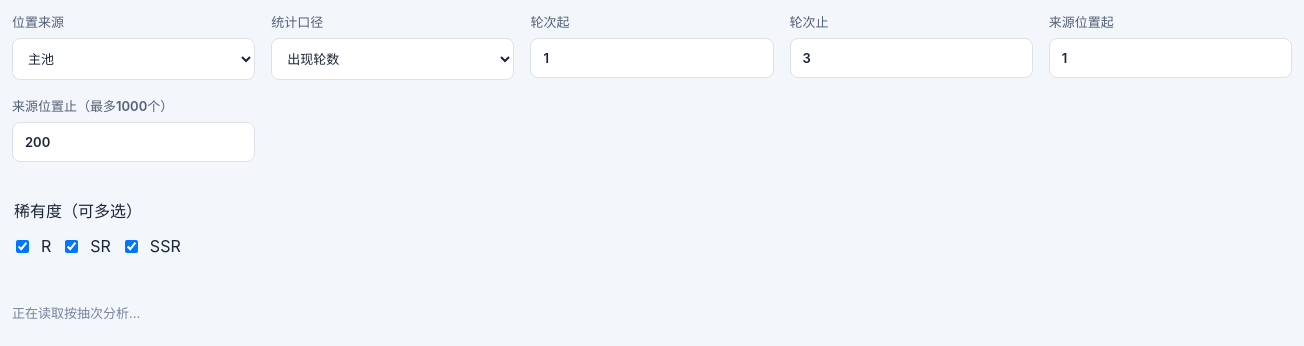
Test case: uses renamed rarity labels for single, multiple and empty selections without posting a simulation
Click the checkbox labelled "SR" at (72, 246), box [65,240,78,252]
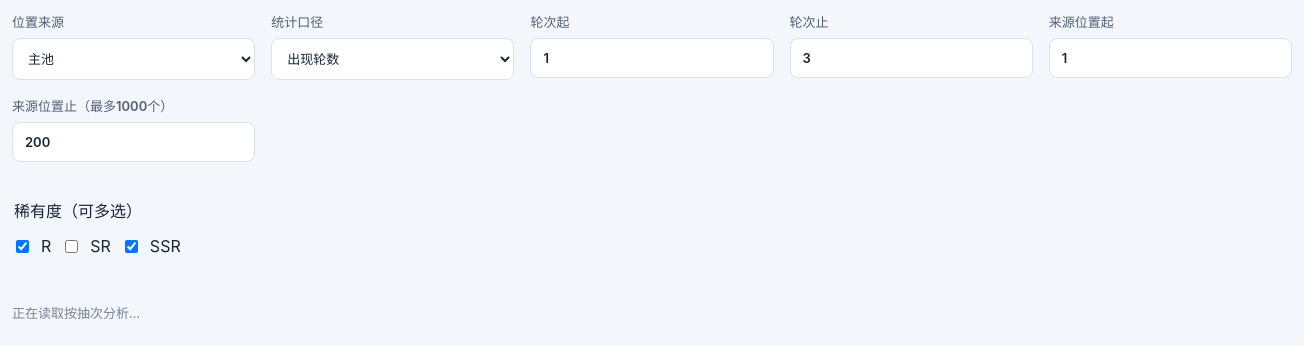
Click the checkbox labelled "SSR" at (131, 246), box [125,240,138,252]
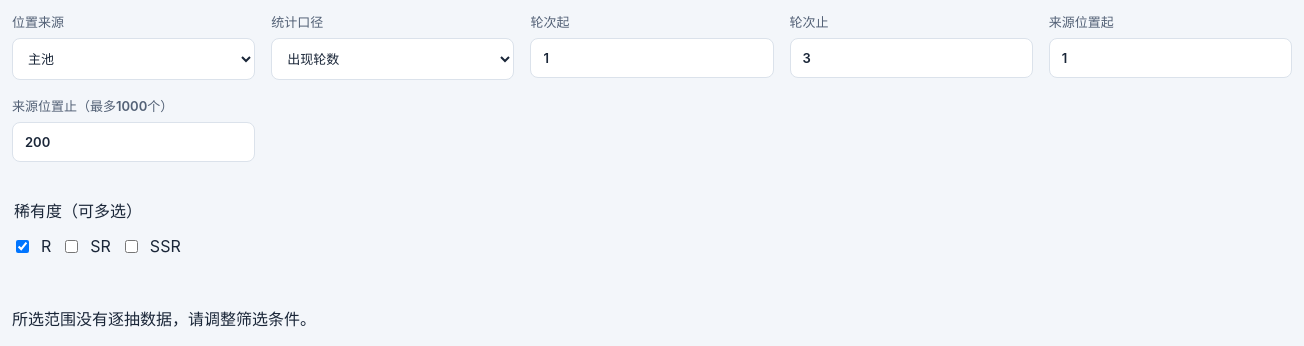
Click the checkbox labelled "SSR" at (131, 246), box [125,240,138,252]
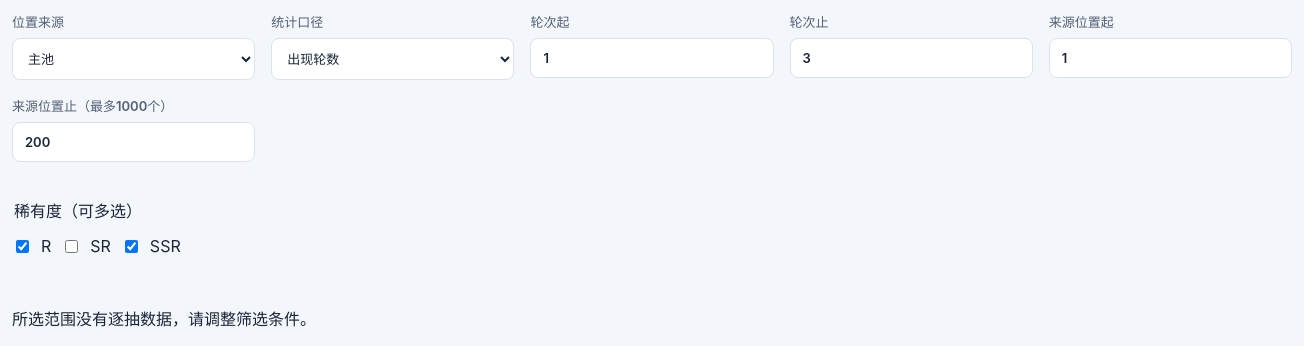
Select "赠送" in the dropdown labelled "位置来源" at (134, 59), box [12,38,255,80]
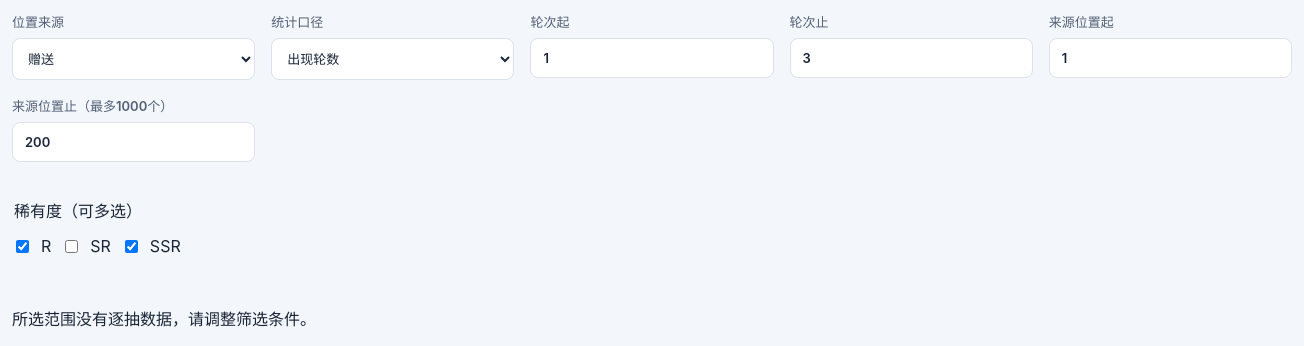
Click the checkbox labelled "R" at (22, 246), box [16,240,29,252]
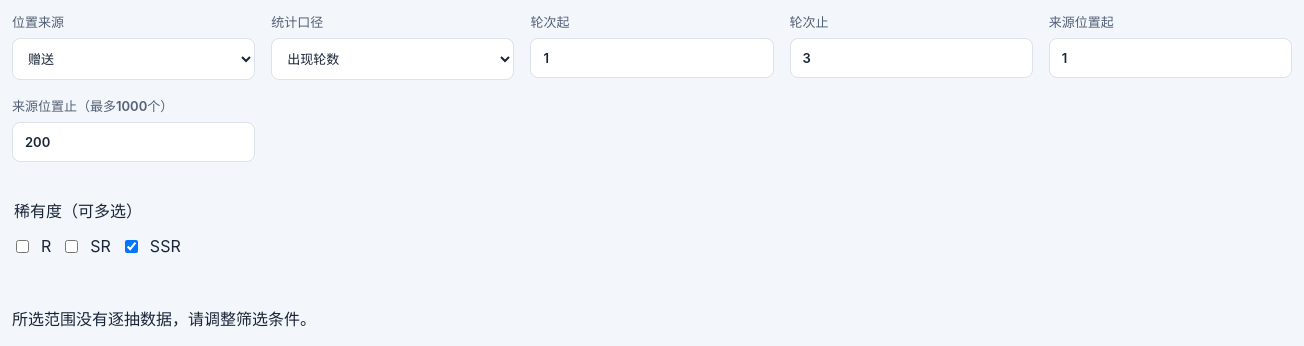
Click the checkbox labelled "SSR" at (131, 246), box [125,240,138,252]
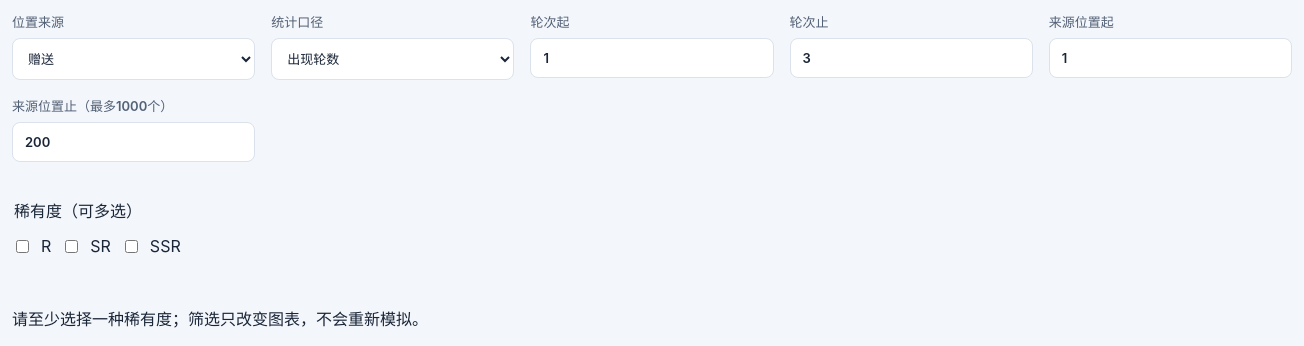
Result: the message shows "请至少选择一种稀有度" at [12,309,428,329]
